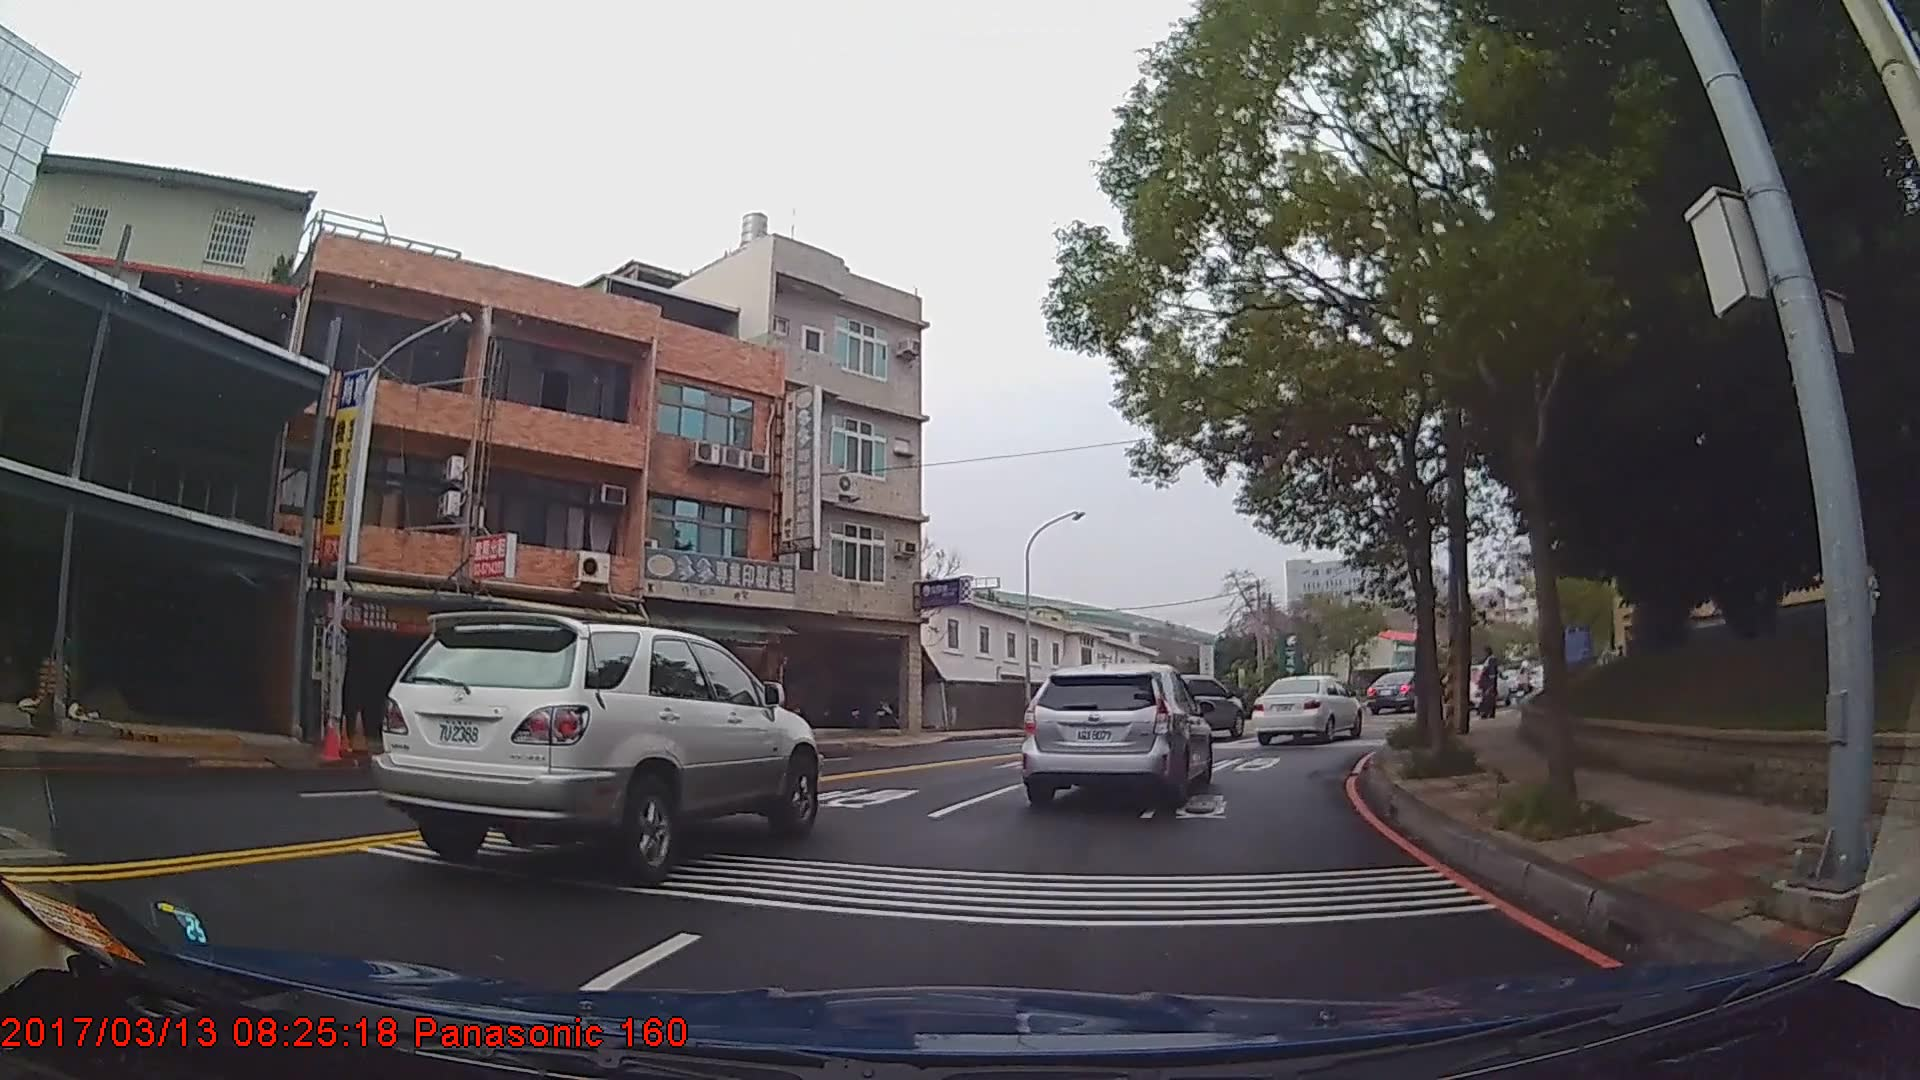vehicle: (369, 611, 822, 890), (1018, 662, 1213, 814), (1247, 673, 1364, 744), (1150, 674, 1245, 741), (1367, 667, 1437, 716)
